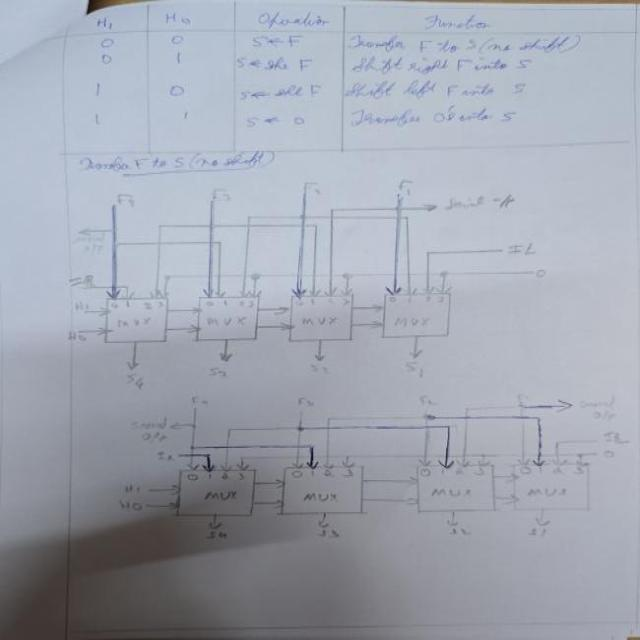Figure Detection - v3 Dataset Version2: (62, 169, 566, 384), (104, 387, 628, 570)
